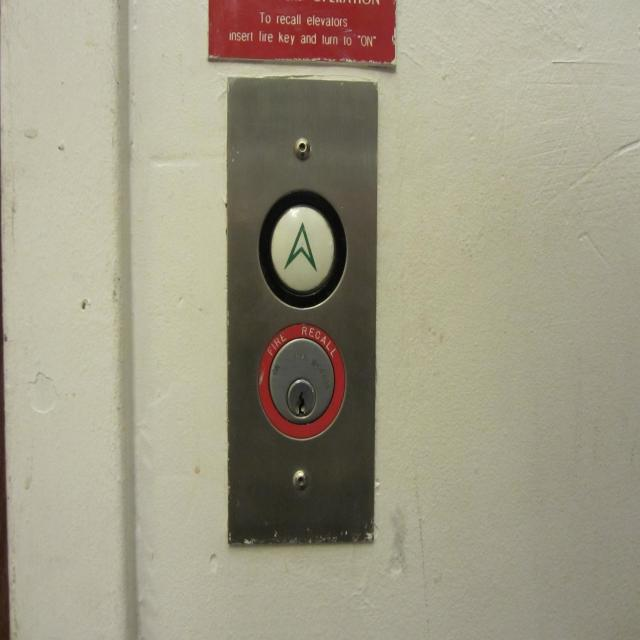keyhole: (254, 318, 348, 448)
up: (256, 184, 351, 315)
